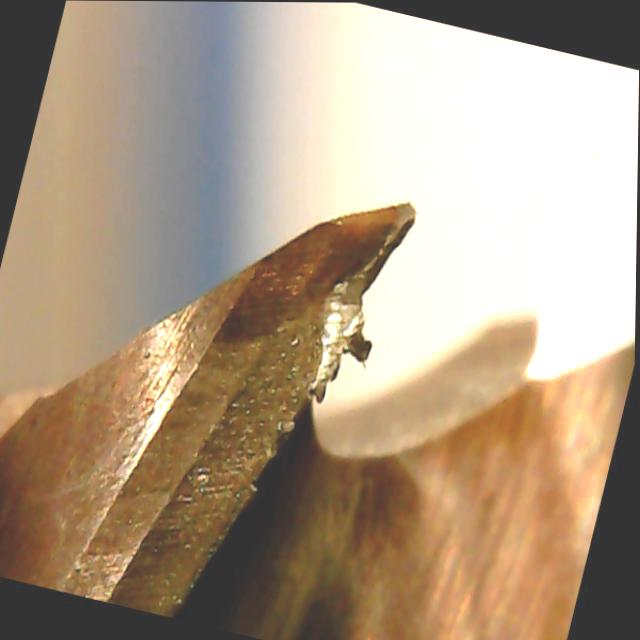Tool-wear-class-2: (186, 158, 429, 437)
